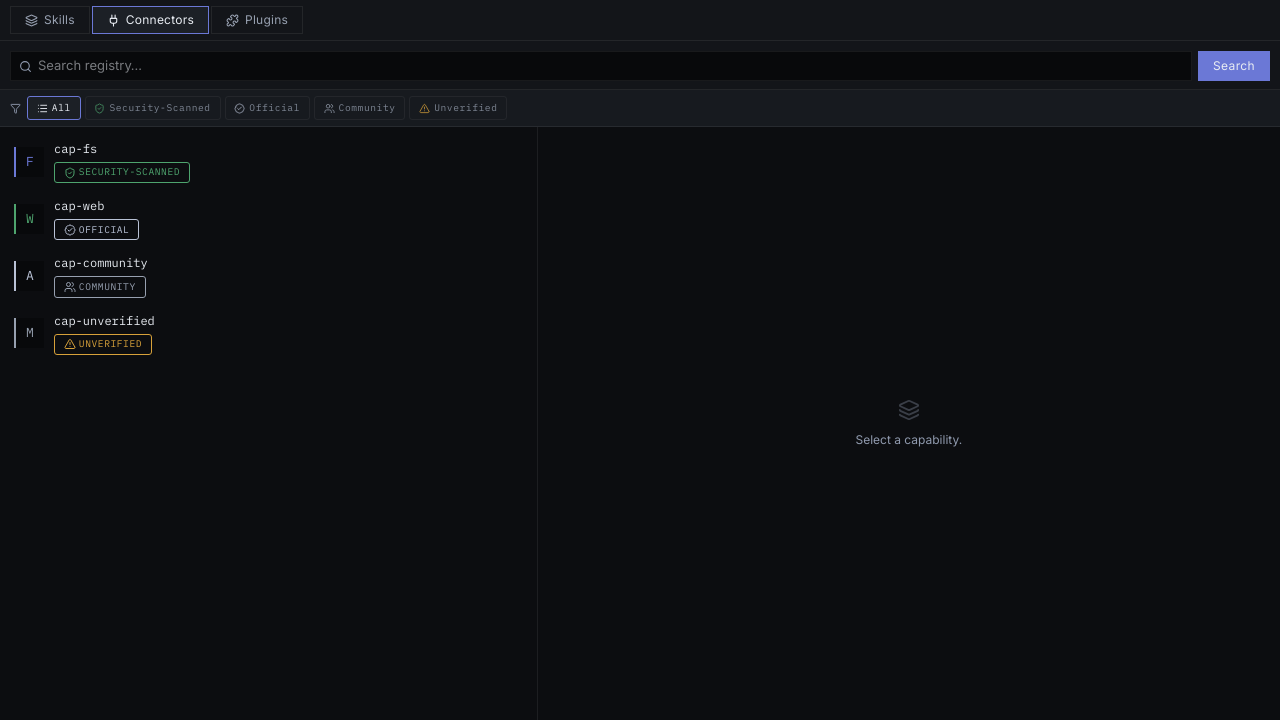
Test: Registry › shows detail panel when a capability is selected
Click the text "cap-fs" at (76, 148), box left=54, top=141, right=97, bottom=156
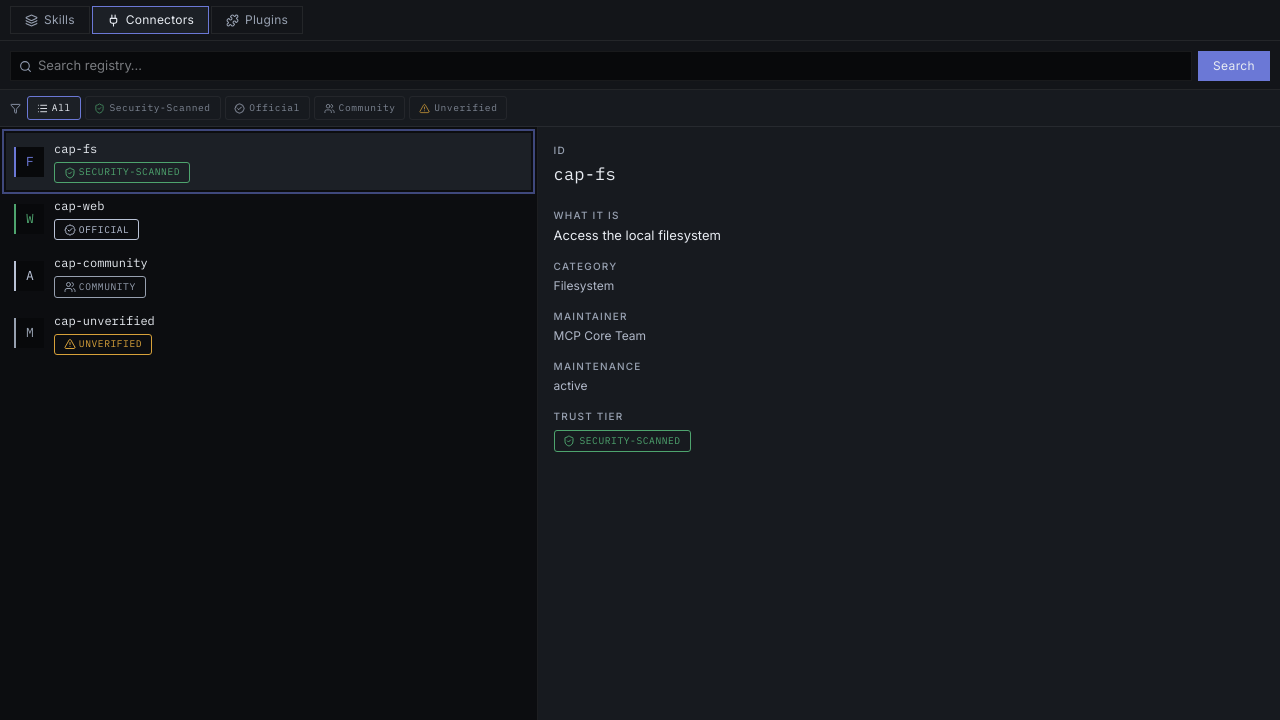
Check: the text "Access the local filesystem" is shown, box left=554, top=226, right=721, bottom=242
Check: the text "MCP Core Team" is shown, box left=554, top=328, right=646, bottom=343
